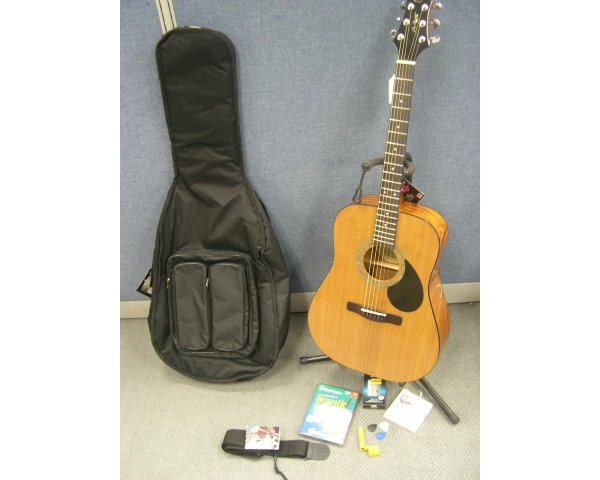guitar: (307, 2, 450, 382)
